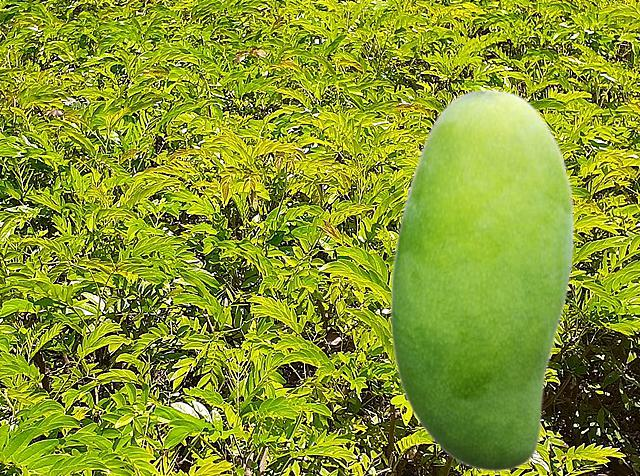green_mango: (389, 88, 574, 471)
